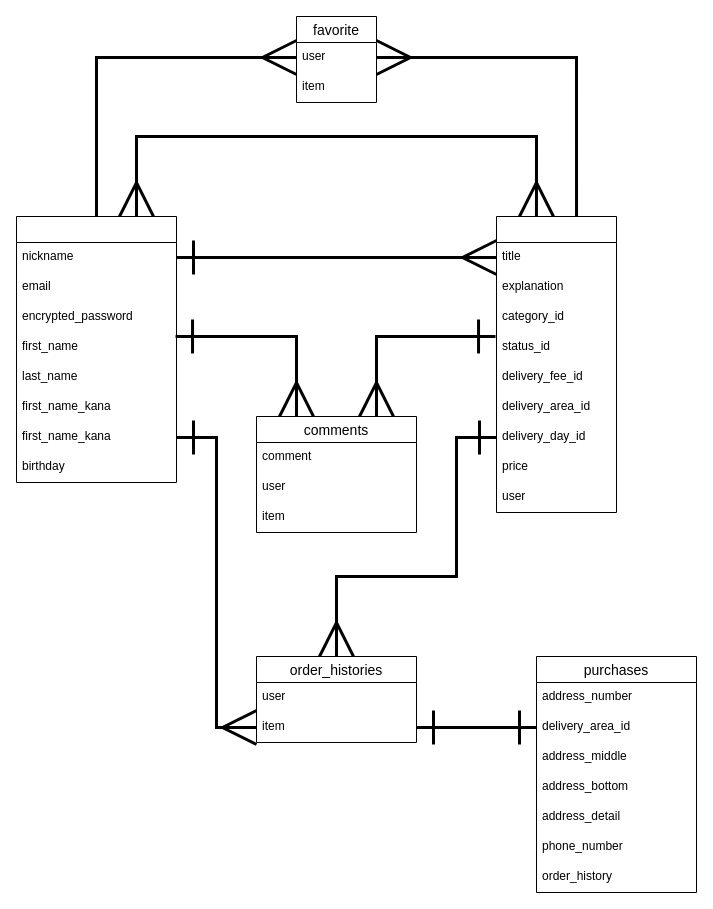
The diagram is 713 pixels wide and 909 high, and some of its shapes have lost their labels. Each missing label, with the box of its shape:
items: (496, 216, 616, 512)
users: (16, 216, 176, 482)
